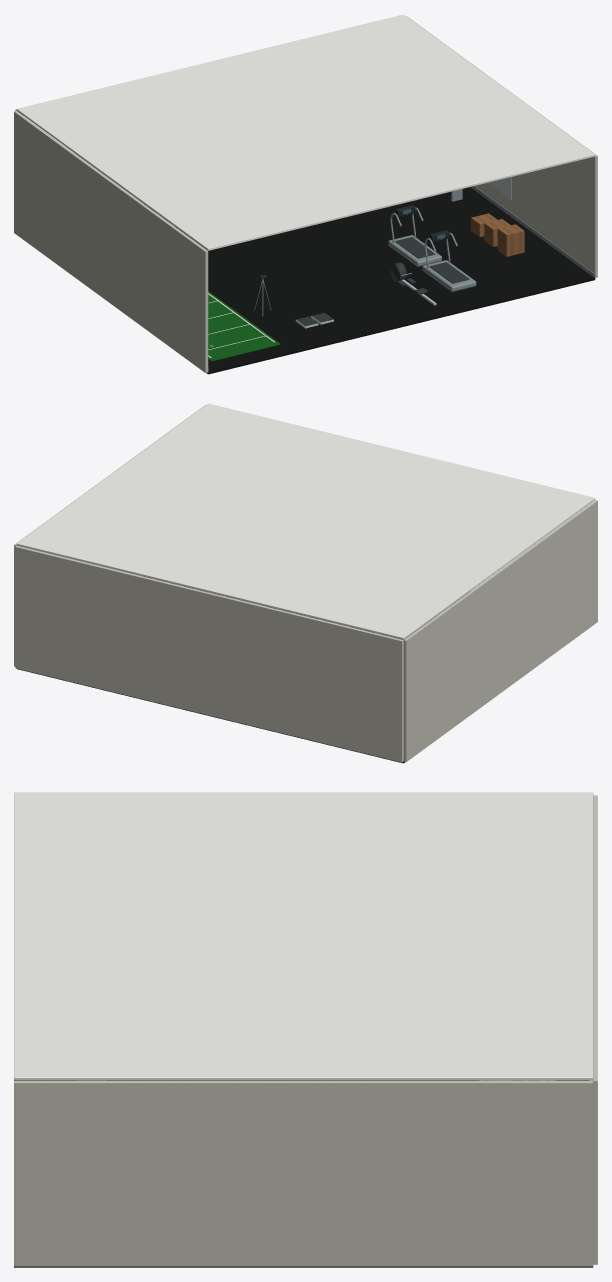
File: performance-gym-iUJQagZD.glb
The picture shows the model from 3 angles, top to bottom: view 1: azimuth 30°, elevation 25°; view 2: azimuth 150°, elevation 25°; view 3: azimuth 270°, elevation 25°; orthographic projection. The views are drawn at different scales.
Parts seen in each view (by area): view 1: ceiling | Runtime finish | roughness 0.4 | metal 0.0, floor | Speckled rubber gym flooring, wall_left | Warm off-white | washable eggshell, wall_right | Warm off-white | washable eggshell, floor | Short-pile training turf, floor | Runtime finish | roughness 0.5 | metal 0.0, floor | Runtime finish | roughness 0.7 | metal 0.0, floor | Oak | original baked grain | satin, wall_right | Runtime finish | roughness 0.5 | metal 0.0; view 2: ceiling | Runtime finish | roughness 0.4 | metal 0.0, wall_back | Warm off-white | washable eggshell, wall_left | Warm off-white | washable eggshell, floor | Speckled rubber gym flooring, wall_right | Warm off-white | washable eggshell; view 3: ceiling | Runtime finish | roughness 0.4 | metal 0.0, wall_right | Warm off-white | washable eggshell, wall_back | Warm off-white | washable eggshell, floor | Speckled rubber gym flooring.
Part boxes in pixels (x1,y1,x2,y2): ceiling | Runtime finish | roughness 0.4 | metal 0.0: [16, 14, 595, 250]; floor | Speckled rubber gym flooring: [144, 187, 595, 374]; wall_left | Warm off-white | washable eggshell: [14, 111, 208, 372]; wall_right | Warm off-white | washable eggshell: [406, 16, 597, 277]; floor | Short-pile training turf: [208, 291, 280, 361]; floor | Runtime finish | roughness 0.5 | metal 0.0: [141, 189, 476, 316]; floor | Runtime finish | roughness 0.7 | metal 0.0: [296, 214, 502, 326]; floor | Oak | original baked grain | satin: [471, 213, 524, 256]; wall_right | Runtime finish | roughness 0.5 | metal 0.0: [470, 186, 595, 277]; ceiling | Runtime finish | roughness 0.4 | metal 0.0: [16, 403, 595, 639]; wall_back | Warm off-white | washable eggshell: [15, 546, 403, 762]; wall_left | Warm off-white | washable eggshell: [403, 500, 597, 761]; floor | Speckled rubber gym flooring: [17, 576, 470, 763]; wall_right | Warm off-white | washable eggshell: [14, 405, 205, 666]; ceiling | Runtime finish | roughness 0.4 | metal 0.0: [14, 792, 593, 1080]; wall_right | Warm off-white | washable eggshell: [14, 1081, 593, 1266]; wall_back | Warm off-white | washable eggshell: [593, 795, 597, 1264]; floor | Speckled rubber gym flooring: [14, 1080, 593, 1267].
Bounding box in the file's own units: 14.2 × 4.34 × 12.1.
Materials: 15 (4 with a texture image).
